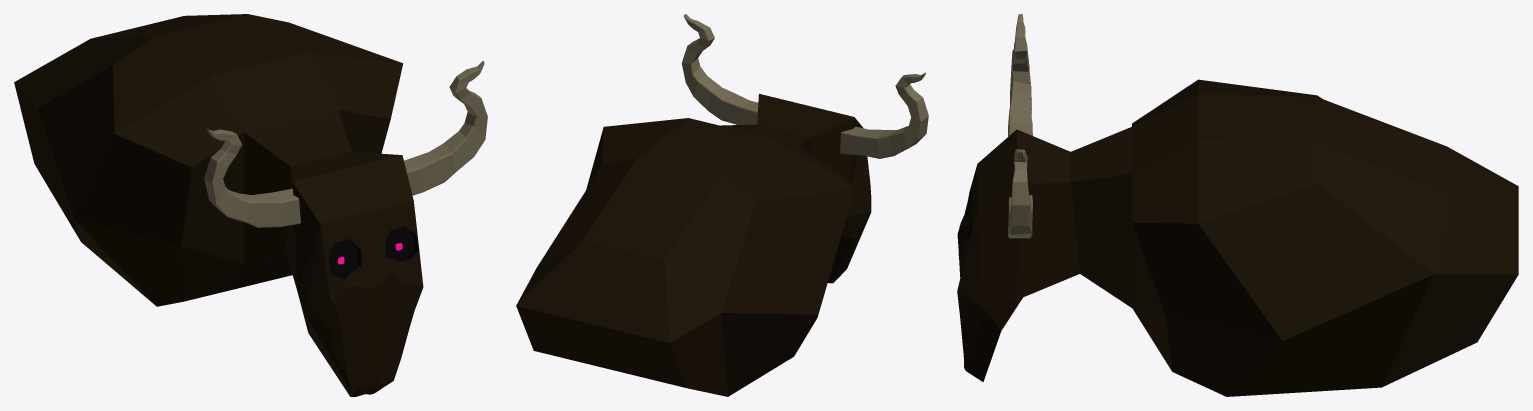
File: ForestMonsterV1.fbx
3 renders of one model, left to right at view 1: azimuth 30°, elevation 25°; view 2: azimuth 150°, elevation 25°; view 3: azimuth 270°, elevation 25°, orthographic. The views are drawn at different scales.
Visible parts, largest first — view 1: MainBodyV2, Horn; view 2: MainBodyV2, Horn; view 3: MainBodyV2, Horn.
Boxes of the visible parts, x1,y1,x2,y2 form: MainBodyV2: [14, 14, 423, 396]; Horn: [204, 61, 487, 227]; MainBodyV2: [516, 94, 871, 396]; Horn: [681, 14, 928, 158]; MainBodyV2: [957, 79, 1518, 396]; Horn: [1008, 14, 1032, 238].
Size of the model in its own units: 597 by 569 by 984.
